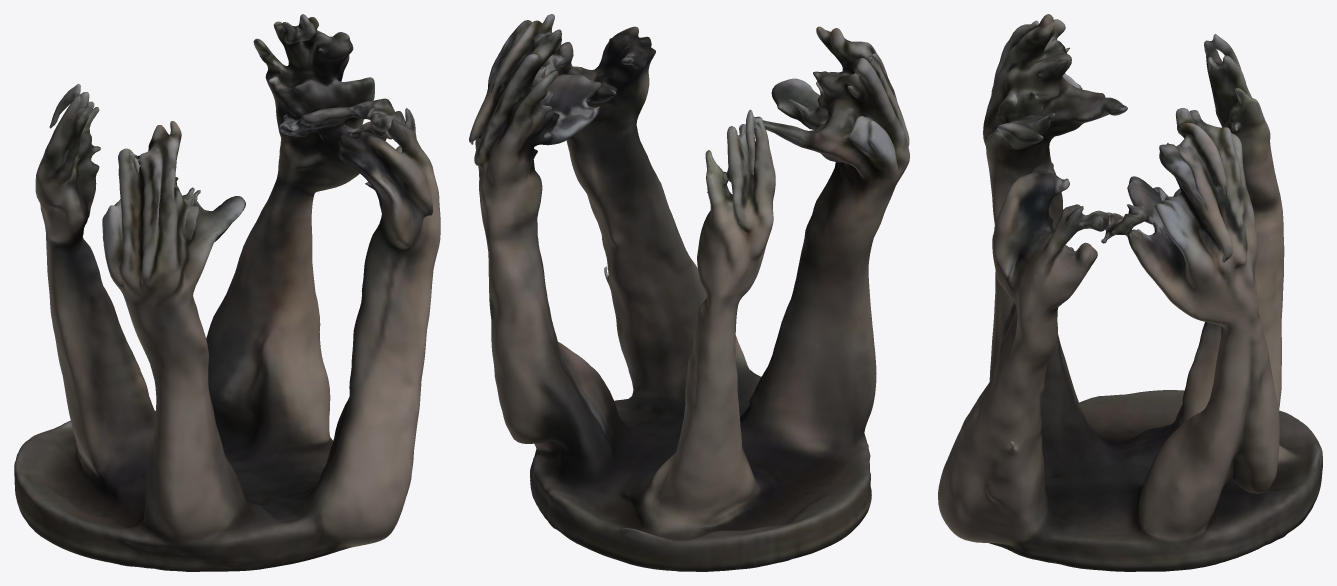
File: be99edf477af_hands_sculpture__3d.fbx
The picture shows the model from 3 angles, left to right: view 1: azimuth 30°, elevation 25°; view 2: azimuth 150°, elevation 25°; view 3: azimuth 270°, elevation 25°; orthographic projection. The views are drawn at different scales.
Visible parts, largest first — view 1: high_poly; view 2: high_poly; view 3: high_poly.
Boxes of the visible parts, x1,y1,x2,y2 form: high_poly: (14, 14, 440, 571); high_poly: (469, 14, 909, 571); high_poly: (938, 14, 1322, 571).
Bounding box in the file's own units: 79.81 × 100 × 76.27.
